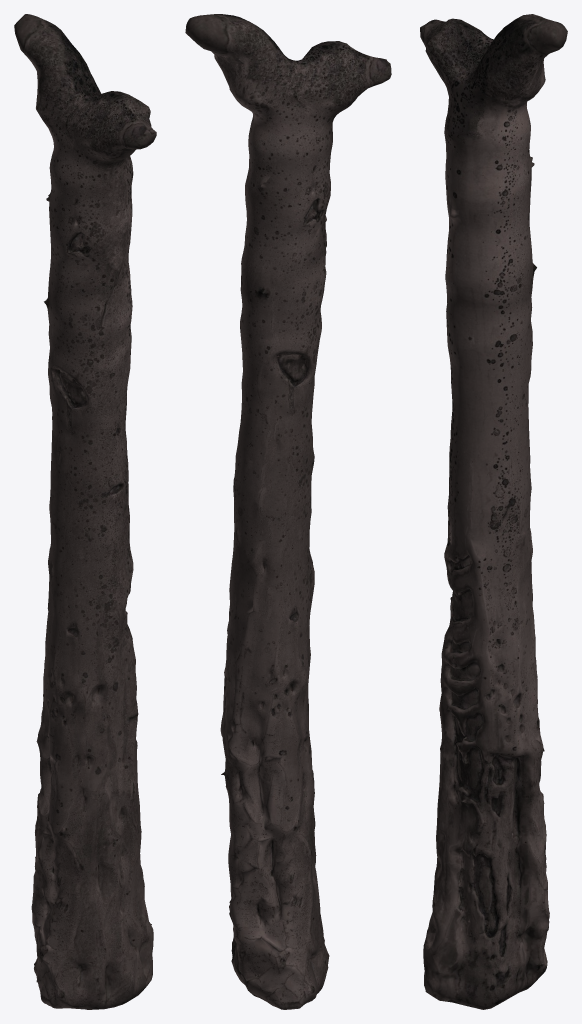
The model's file is dead_quiver_trunk.gltf.
3 renders of one model, left to right at view 1: azimuth 90°, elevation 25°; view 2: azimuth 150°, elevation 25°; view 3: azimuth 270°, elevation 25°, orthographic. The views are drawn at different scales.
Parts seen in each view (by area): view 1: dead_quiver_trunk_LOD0; view 2: dead_quiver_trunk_LOD0; view 3: dead_quiver_trunk_LOD0.
Boxes of the visible parts, box(x1,y1,x2,y2) form: dead_quiver_trunk_LOD0: box(14, 14, 156, 1009); dead_quiver_trunk_LOD0: box(185, 14, 391, 1009); dead_quiver_trunk_LOD0: box(420, 14, 567, 1009).
Bounding box in the file's own units: 0.3065 × 1.99 × 0.2681.
1 material, 1 textured.
